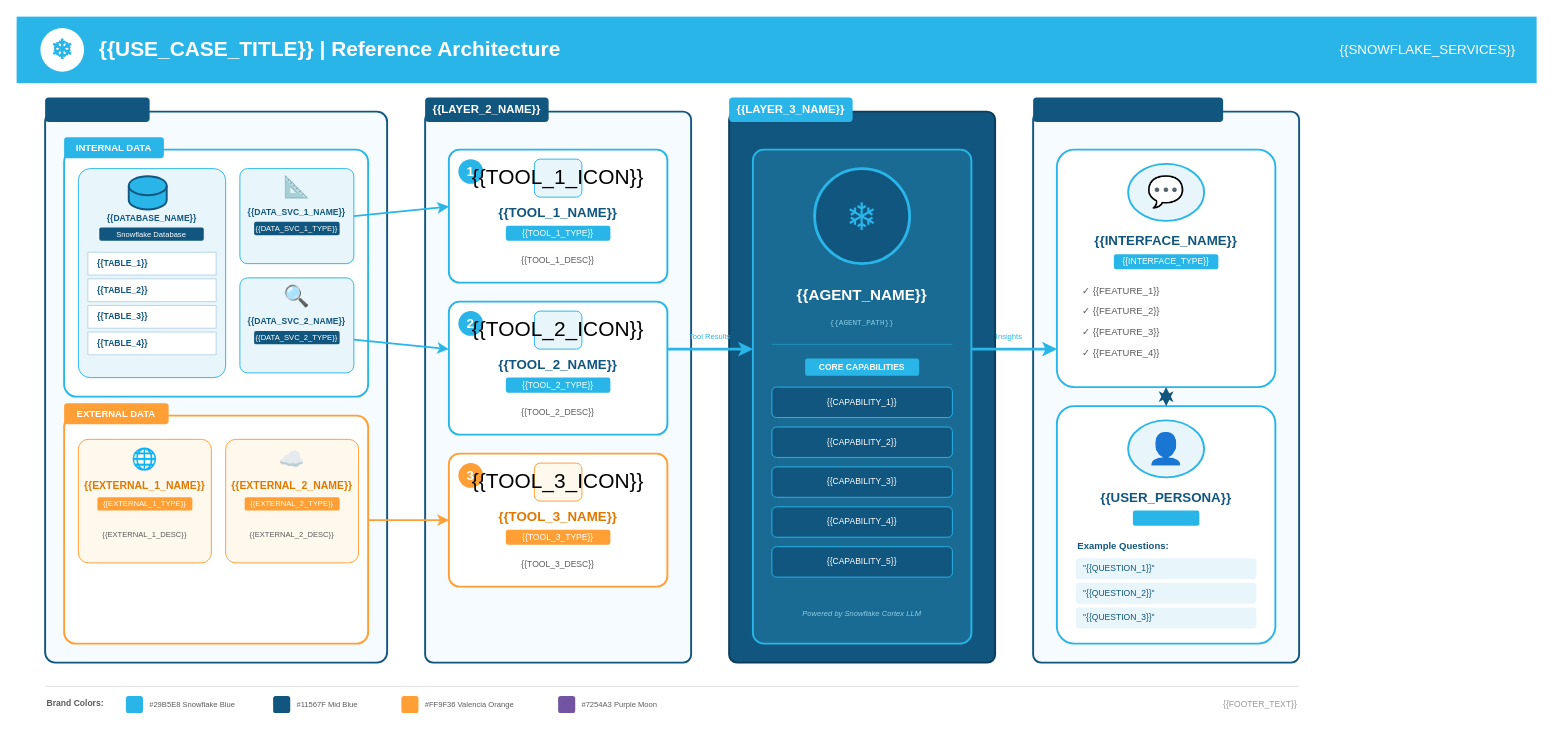
Some shapes in this 1552 by 729 pixel diagram are drawn without their labels. The shapes that lost their labels are listed below. From the top down, each one's centre as x and y in pixels, then its label:
At [97,109]: "DATA LAYER".
At [1128,109]: "{{LAYER_4_NAME}}".
At [1165,517]: "End User".
